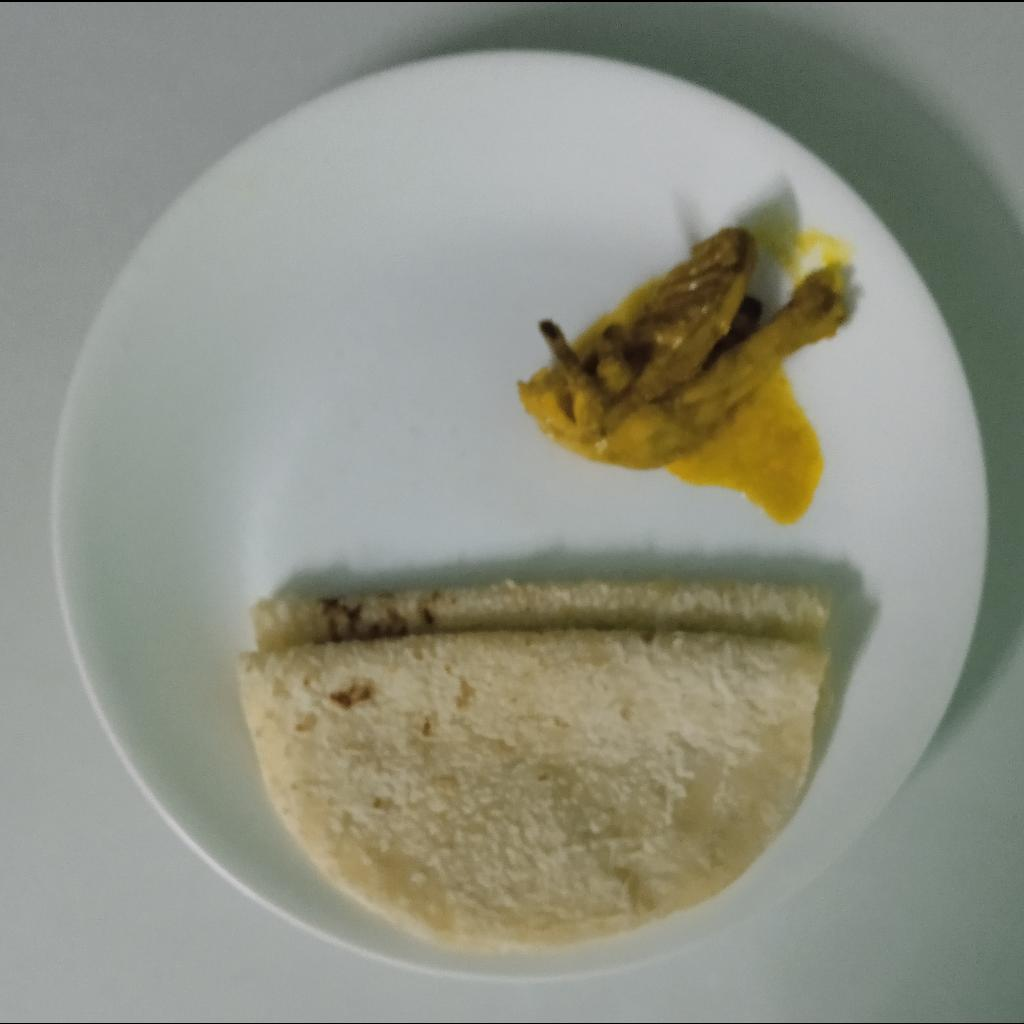chicken: (516, 221, 852, 469)
ruti: (234, 575, 830, 945)
